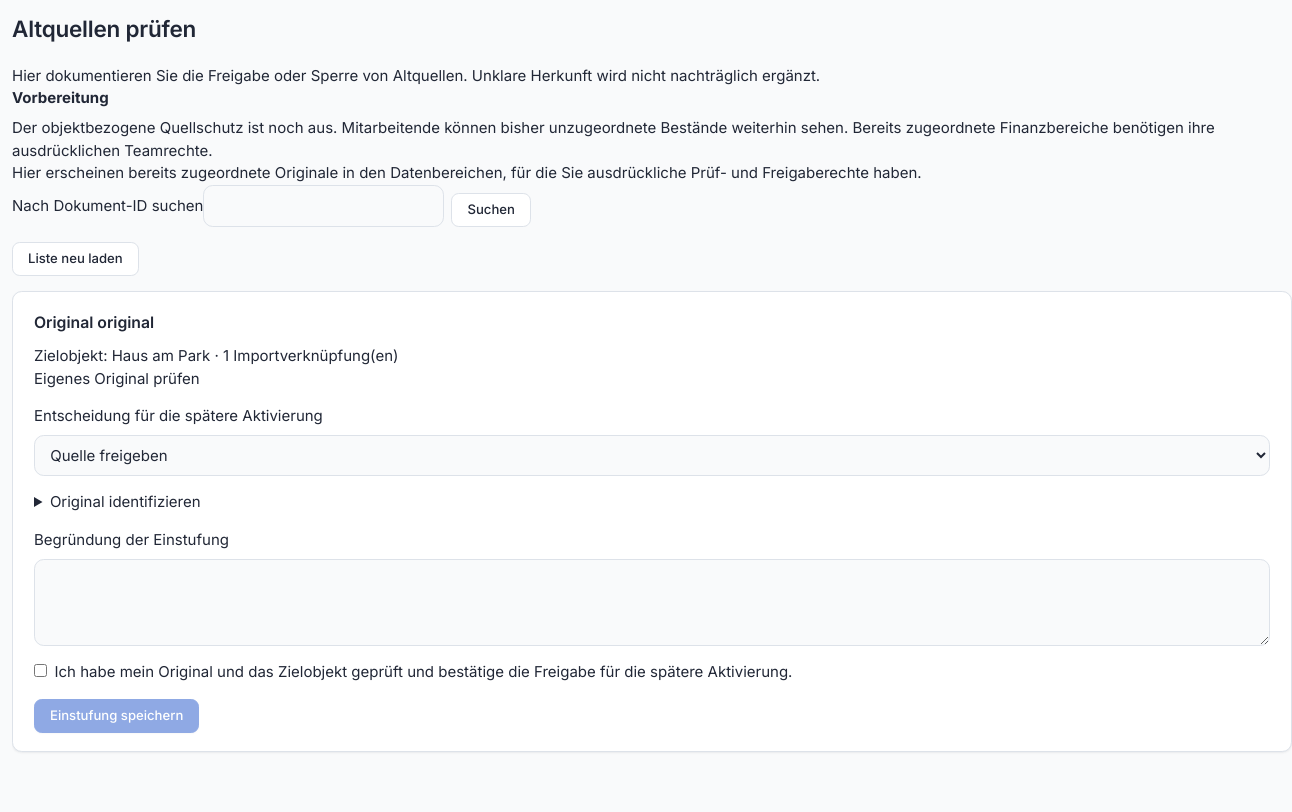
Test: retains exact classification, digest and key after an unconfirmed response
Expected: the button "Einstufung speichern" is disabled, [34,699,199,733]
Expected: the text "objektbezogene Quellschutz ist noch aus" is shown, [12,118,1215,160]
Type "Original und Ziel geprüft" into the text box labelled "Begründung der Einstufung".
click(652, 603); type("Original und Ziel geprüft")  # box [34,559,1270,646]
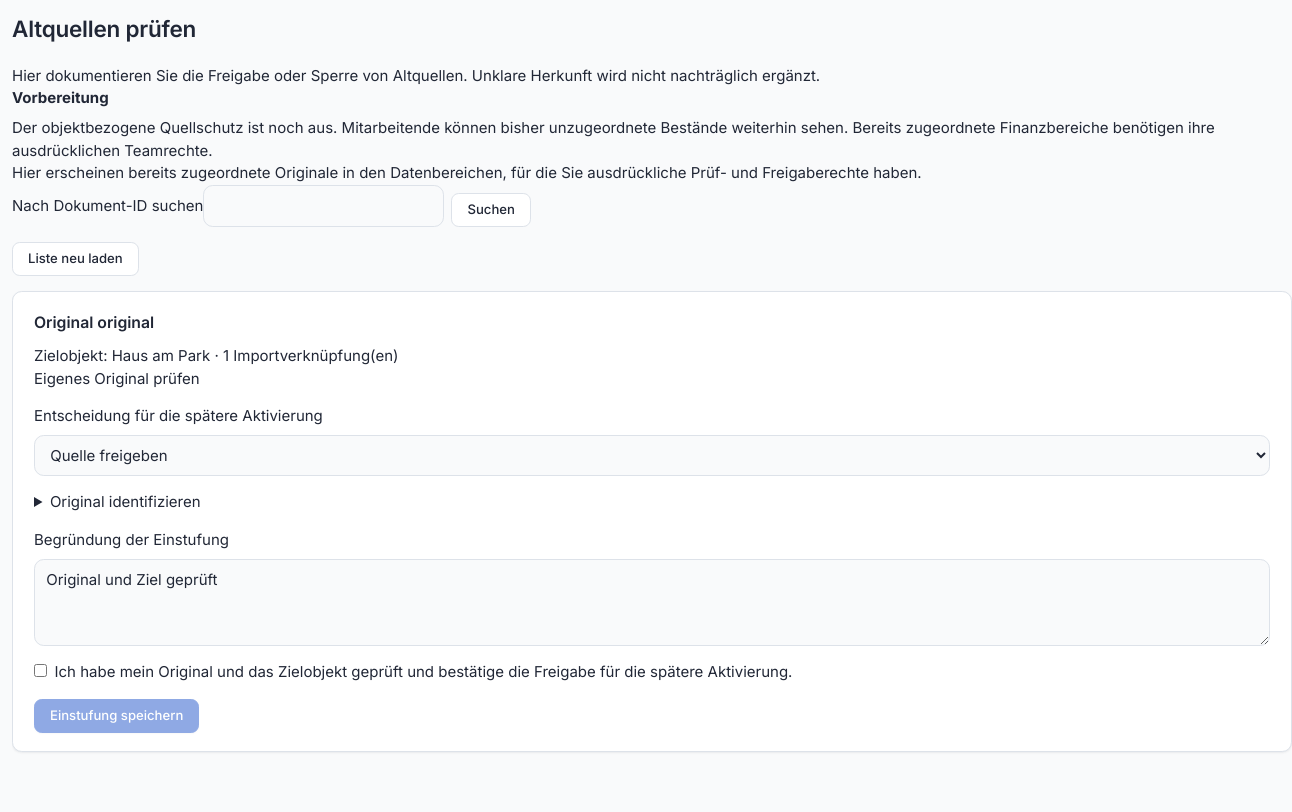
Click the checkbox.
click(40, 671)  # box [34,664,47,677]
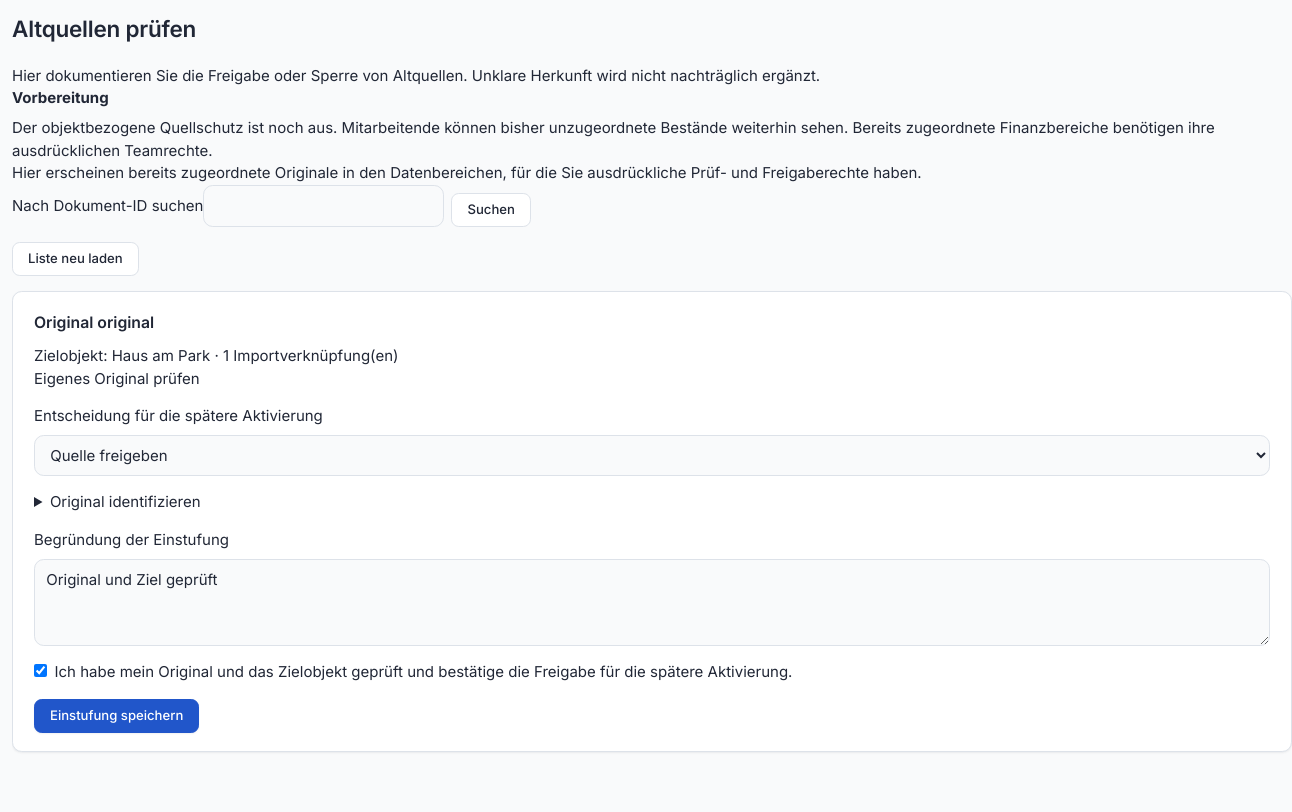
Click the button "Einstufung speichern".
click(117, 716)  # box [34,699,199,733]
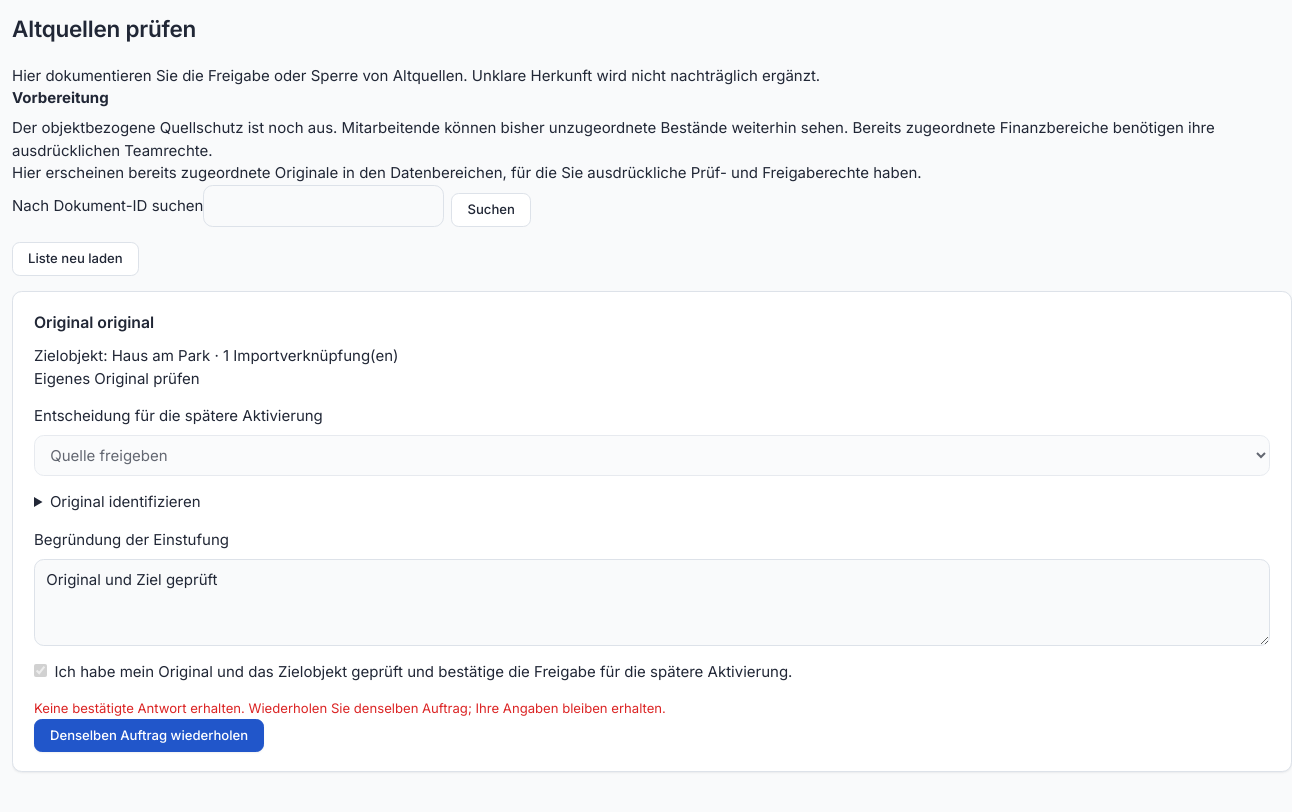
Expected: the text box labelled "Begründung der Einstufung" is disabled, [34,559,1270,646]
Now the text "Keine bestätigte Antwort erhalten" is shown, box [34,700,666,716]
Now the dropdown is disabled, box [34,435,1270,476]
Click the button "Denselben Auftrag wiederholen".
click(149, 736)  # box [34,719,264,752]
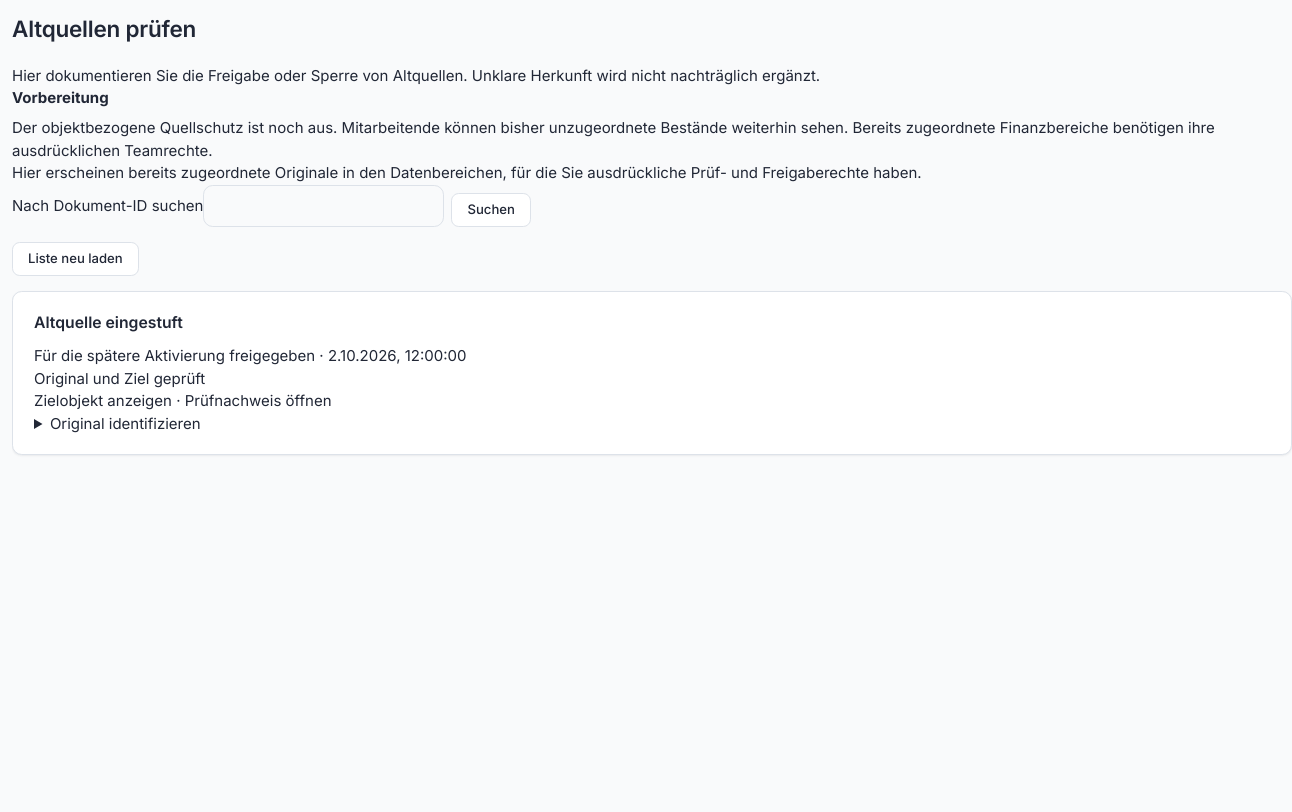
Now the link "Prüfnachweis öffnen" is shown, box [185,391,332,410]
